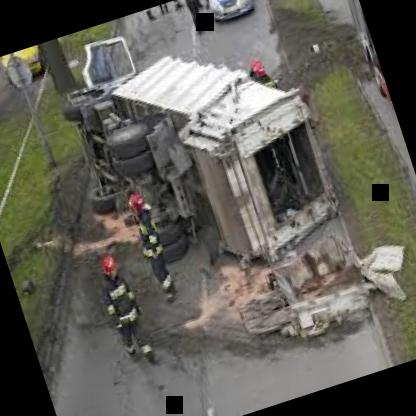accident: (25, 0, 369, 327)
